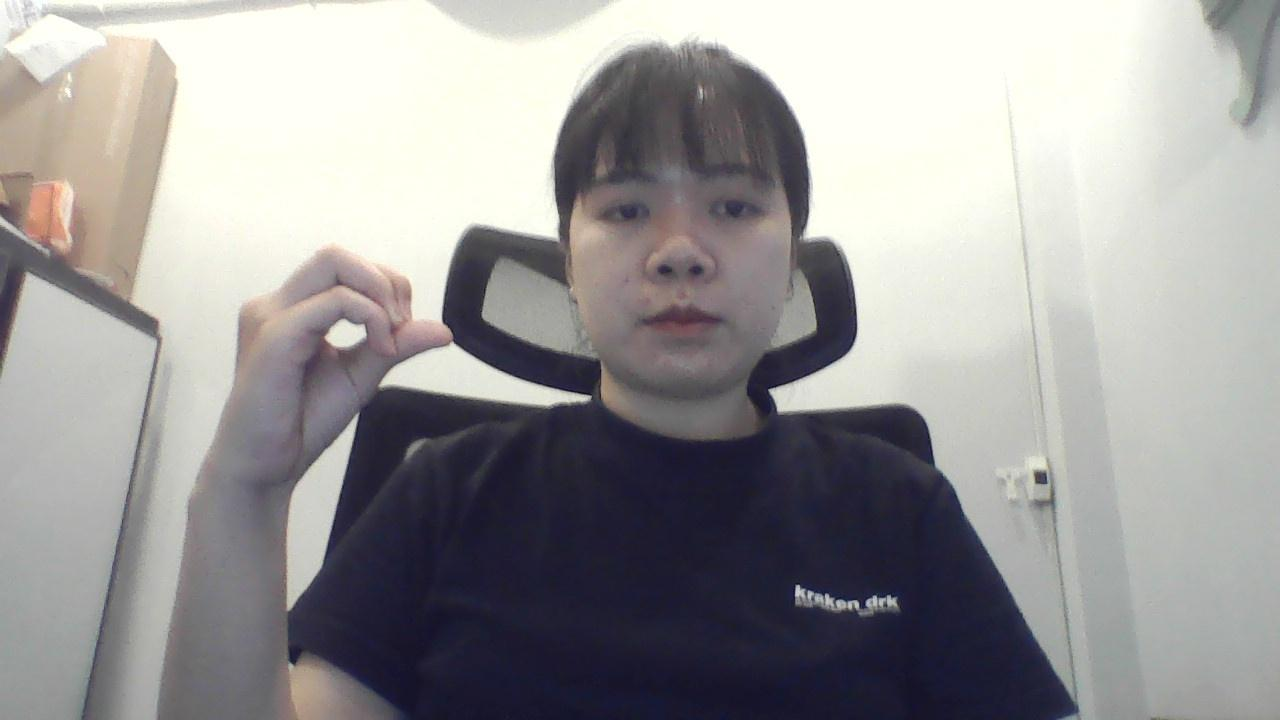S: (210, 227, 460, 494)
